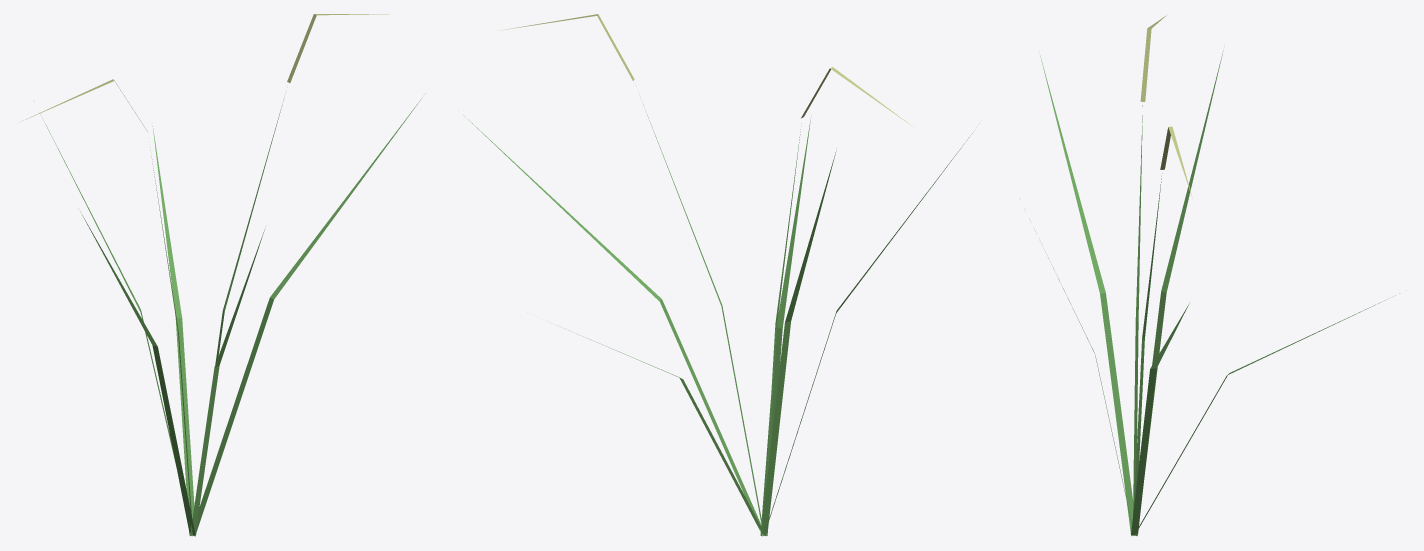
Rendered from rice_heading_lod1.glb.
3 views of the same model, side by side, from view 1: azimuth 30°, elevation 25°; view 2: azimuth 150°, elevation 25°; view 3: azimuth 270°, elevation 25° (orthographic). The views are drawn at different scales.
Parts seen in each view (by area): view 1: rice_heading_leaves, rice_heading_culms, rice_heading_panicles; view 2: rice_heading_leaves, rice_heading_culms, rice_heading_panicles; view 3: rice_heading_leaves, rice_heading_culms, rice_heading_panicles.
Boxes of the visible parts, x1,y1,x2,y2 form: rice_heading_leaves: [40, 93, 425, 536]; rice_heading_culms: [150, 98, 284, 535]; rice_heading_panicles: [23, 14, 388, 131]; rice_heading_leaves: [458, 110, 972, 536]; rice_heading_culms: [643, 104, 801, 535]; rice_heading_panicles: [502, 14, 911, 125]; rice_heading_leaves: [1019, 50, 1399, 535]; rice_heading_culms: [1133, 105, 1162, 514]; rice_heading_panicles: [1140, 15, 1192, 197].
Size of the model in its own units: 0.871 by 0.9246 by 0.6949.
